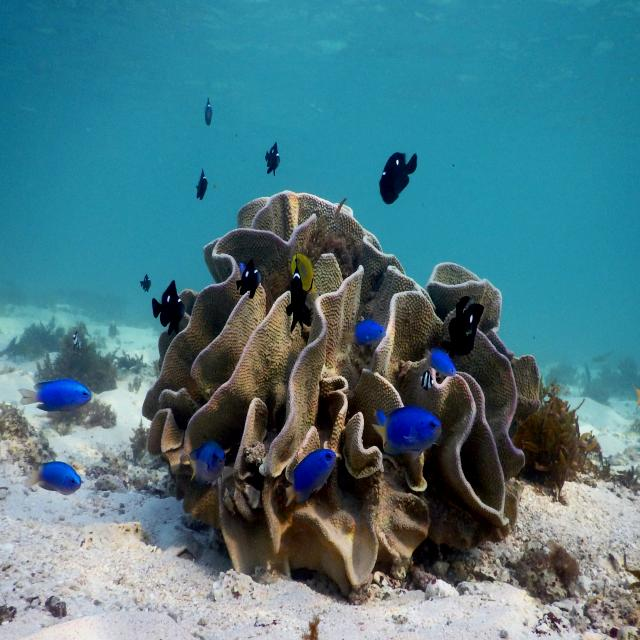Coral: (141, 190, 540, 598)
